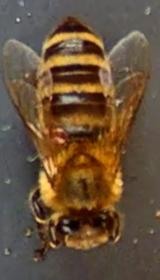varroa_mite: (44, 120, 73, 144)
